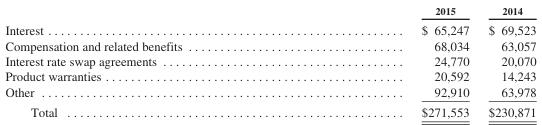table: (4, 4, 535, 118)
table column: (4, 4, 301, 118), (301, 4, 478, 118), (478, 4, 535, 118)
table column header: (4, 4, 535, 19)
table row: (4, 19, 535, 37), (4, 83, 535, 101), (4, 101, 535, 118), (4, 52, 535, 68), (4, 4, 535, 19), (4, 37, 535, 52), (4, 68, 535, 83)
